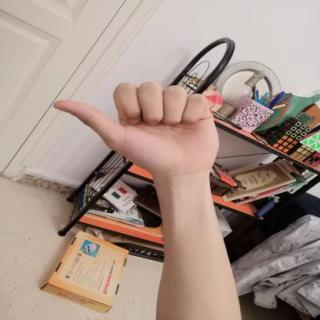DAD: (41, 74, 229, 181)
